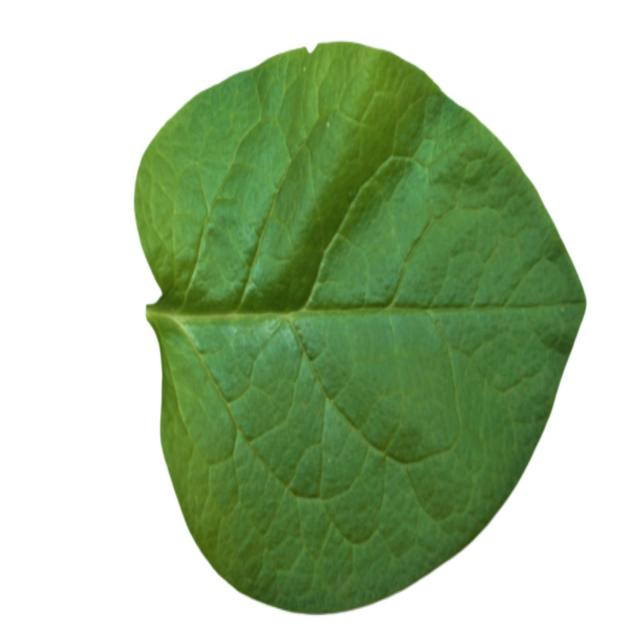Medicinal-Basale: (132, 40, 587, 616)
